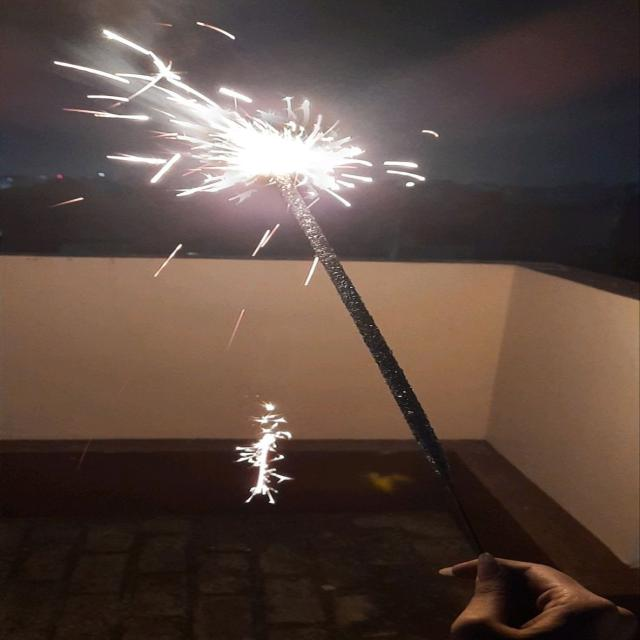fire: (218, 121, 367, 186)
